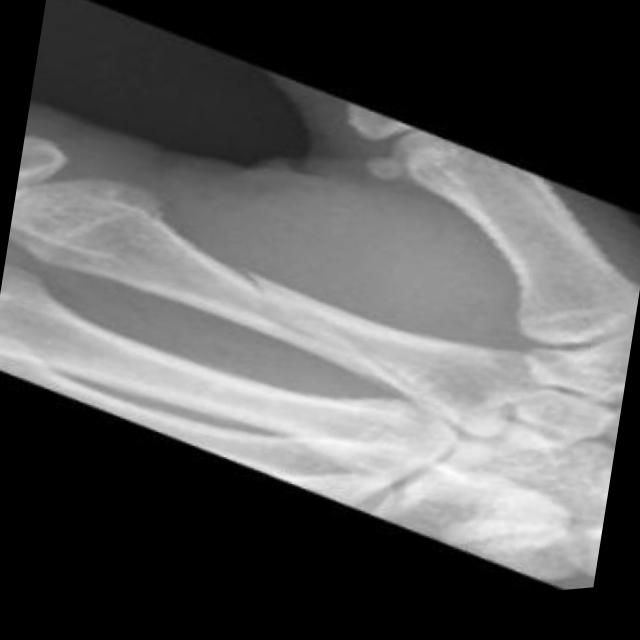fracture: (226, 261, 310, 350)
